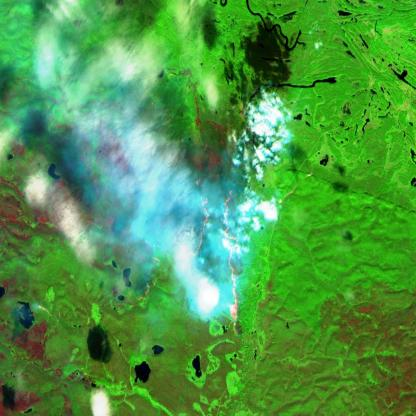fire: (135, 170, 249, 338)
